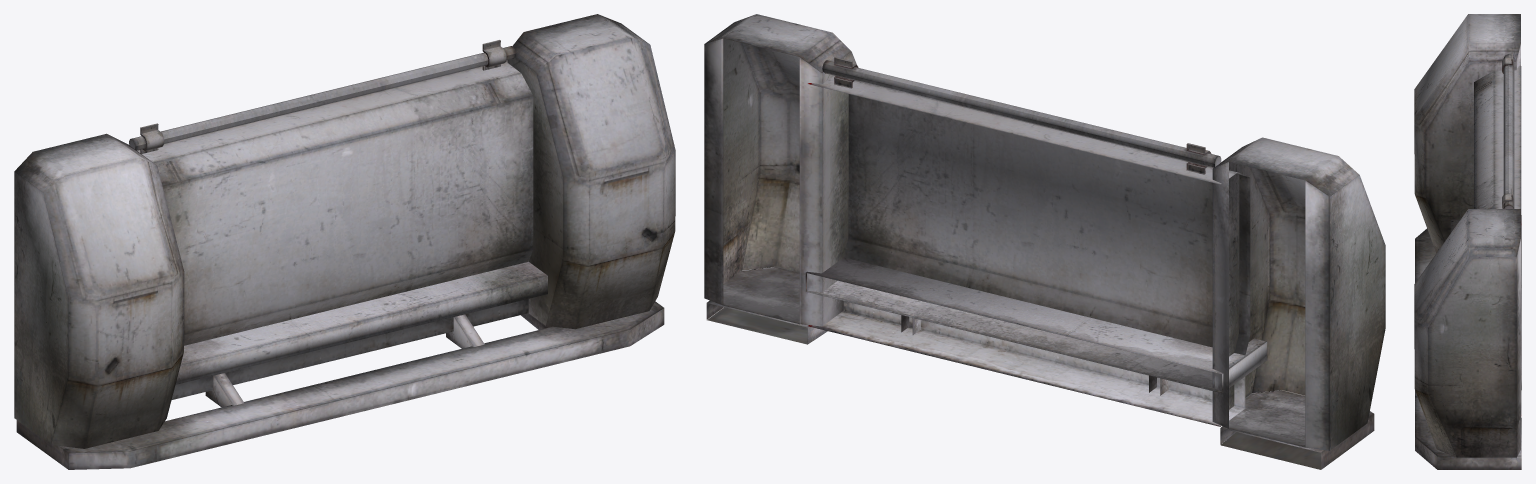
The model's file is tech_wall_theta_02.DAE.
3 renders of one model, left to right at view 1: azimuth 30°, elevation 25°; view 2: azimuth 150°, elevation 25°; view 3: azimuth 270°, elevation 25°, orthographic. The views are drawn at different scales.
Visible parts, largest first — view 1: tech_wall_theta_02; view 2: tech_wall_theta_02; view 3: tech_wall_theta_02.
Part boxes in pixels (x1=…): tech_wall_theta_02: x1=14, y1=14, x2=675, y2=469; tech_wall_theta_02: x1=704, y1=14, x2=1385, y2=469; tech_wall_theta_02: x1=1414, y1=14, x2=1521, y2=469.
Bounding box in the file's own units: 150 × 65.99 × 28.24.
